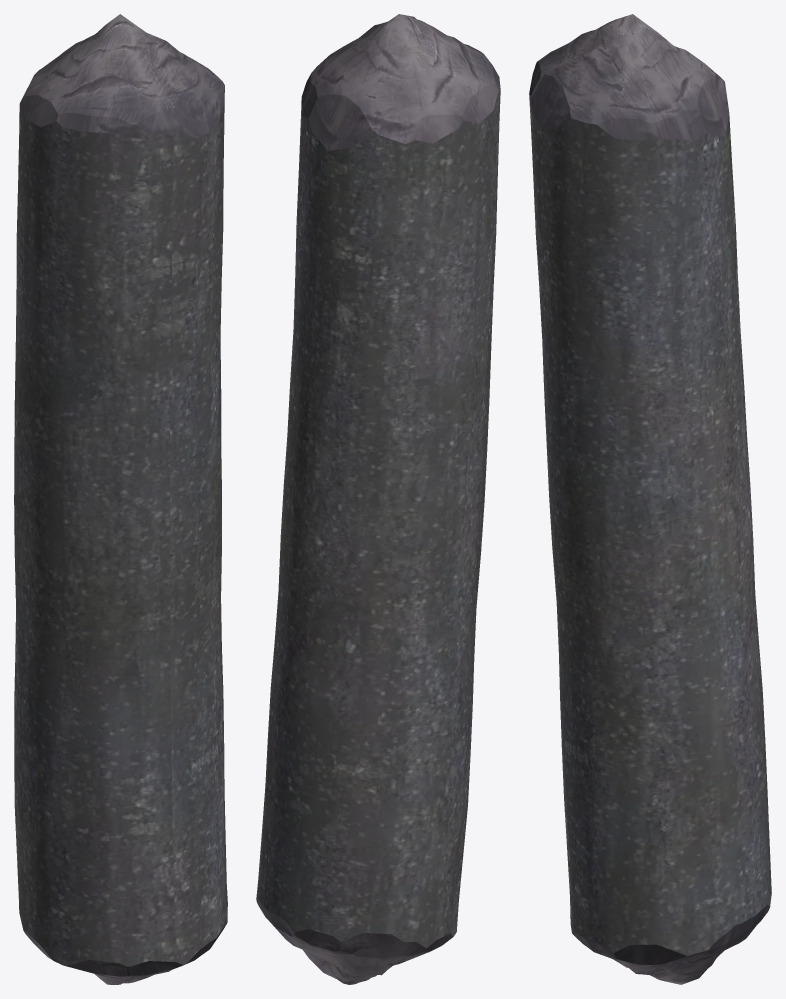
3 renders of one model, left to right at view 1: azimuth 30°, elevation 25°; view 2: azimuth 150°, elevation 25°; view 3: azimuth 270°, elevation 25°, orthographic. The views are drawn at different scales.
Parts seen in each view (by area): view 1: SM_FH_Ash_Tree_01_quarter_02_LOD0; view 2: SM_FH_Ash_Tree_01_quarter_02_LOD0; view 3: SM_FH_Ash_Tree_01_quarter_02_LOD0.
Boxes of the visible parts, x1,y1,x2,y2 form: SM_FH_Ash_Tree_01_quarter_02_LOD0: (14,14,227,984); SM_FH_Ash_Tree_01_quarter_02_LOD0: (256,14,500,984); SM_FH_Ash_Tree_01_quarter_02_LOD0: (529,14,771,984).
Bounding box in the file's own units: 0.5217 × 2.45 × 0.5616.
Materials: 1 (1 with a texture image).
